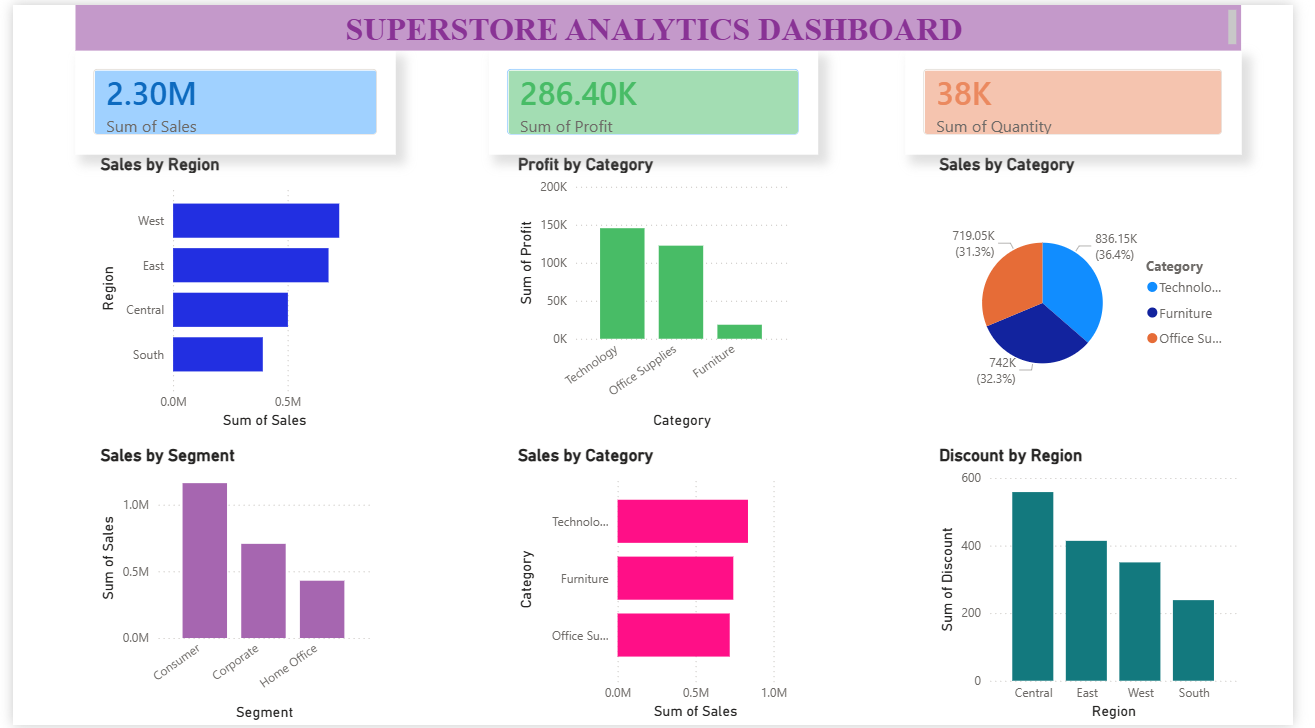

This screenshot's page, from the dashboard's own definition file:
{"tool":"powerbi","page":{"name":"Page 1","canvas":[1280,720],"ordinal":0},"visuals":[{"type":"clusteredBarChart","title":" Sales by Region","fields":{"Category":["Sample___Superstore.Region"],"Y":["Sum(Sample___Superstore.Sales)"]},"box":[82.9,148.6,280,280],"z":0},{"type":"pieChart","title":"Sales by Category","fields":{"Category":["Sample___Superstore.Category"],"Y":["Sum(Sample___Superstore.Sales)"]},"box":[921.6,148.6,306.8,279.7],"z":1000},{"type":"clusteredColumnChart","title":"Profit by Category","fields":{"Category":["Sample___Superstore.Category"],"Y":["Sum(Sample___Superstore.Profit)"]},"box":[500,148.6,280,280],"z":2000},{"type":"clusteredColumnChart","title":" Sales by Segment","fields":{"Category":["Sample___Superstore.Segment"],"Y":["Sum(Sample___Superstore.Sales)"]},"box":[82.9,440,280,280],"z":3000},{"type":"clusteredBarChart","title":"Sales by Category","fields":{"Category":["Sample___Superstore.Category"],"Y":["Sum(Sample___Superstore.Sales)"]},"box":[500,440.5,279.7,279.7],"z":4000},{"type":"clusteredColumnChart","title":"Discount by Region","fields":{"Category":["Sample___Superstore.Region"],"Y":["Sum(Sample___Superstore.Discount)"]},"box":[921.6,440.5,308.1,279.7],"z":5000},{"type":"cardVisual","fields":{"Data":["Sum(Sample___Superstore.Sales)"]},"box":[62.9,45.7,320,102.9],"z":6000},{"type":"cardVisual","fields":{"Data":["Sum(Sample___Superstore.Profit)"]},"box":[475.7,45.7,328.6,102.9],"z":7000},{"type":"cardVisual","fields":{"Data":["Sum(Sample___Superstore.Quantity)"]},"box":[892.9,45.7,335.7,102.9],"z":8000},{"type":"textbox","box":[62.9,0,1165.7,45.7],"z":9000}]}

Visuals, with their boxes in screenshot pixels (x1, y1, x2, y2), scaled from the page's 1280x720 canvas onto the 1315x728 screenshot:
" Sales by Region" clusteredBarChart: rect(85, 150, 373, 433)
"Sales by Category" pieChart: rect(947, 150, 1262, 433)
"Profit by Category" clusteredColumnChart: rect(514, 150, 801, 433)
" Sales by Segment" clusteredColumnChart: rect(85, 445, 373, 727)
"Sales by Category" clusteredBarChart: rect(514, 445, 801, 727)
"Discount by Region" clusteredColumnChart: rect(947, 445, 1263, 727)
cardVisual - Sum(Sample___Superstore.Sales): rect(65, 46, 393, 150)
cardVisual - Sum(Sample___Superstore.Profit): rect(489, 46, 826, 150)
cardVisual - Sum(Sample___Superstore.Quantity): rect(917, 46, 1262, 150)
textbox: rect(65, 0, 1262, 46)
